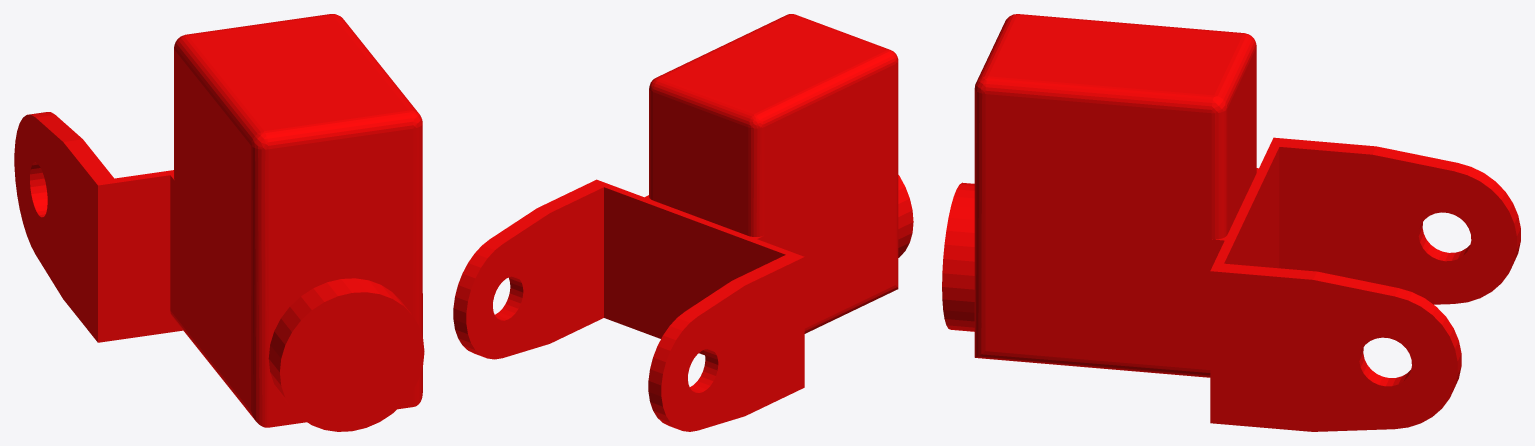
File: wrist_b.obj
3 views of the same model, side by side, from view 1: azimuth 30°, elevation 25°; view 2: azimuth 150°, elevation 25°; view 3: azimuth 270°, elevation 25° (orthographic). The views are drawn at different scales.
Parts seen in each view (by area): view 1: wrist_b; view 2: wrist_b; view 3: wrist_b.
Boxes of the visible parts, x1,y1,x2,y2 form: wrist_b: (14, 14, 424, 431); wrist_b: (453, 14, 913, 431); wrist_b: (942, 14, 1520, 431).
Size of the model in its own units: 54.45 by 47.75 by 86.23.
